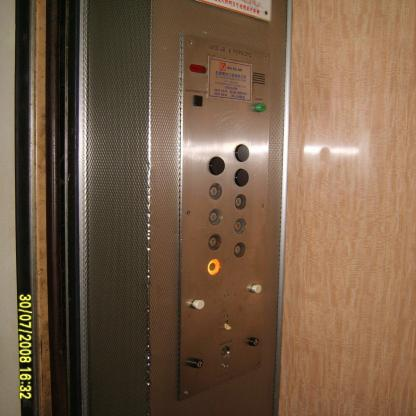1: (232, 240, 247, 258)
2: (208, 233, 222, 251)
3: (232, 216, 247, 234)
4: (208, 207, 223, 225)
5: (233, 192, 247, 210)
6: (207, 182, 223, 200)
G: (208, 258, 222, 276)
down: (246, 336, 260, 346)
empty: (208, 155, 226, 176), (232, 167, 250, 188), (233, 143, 250, 162), (191, 296, 206, 312), (248, 281, 263, 296), (192, 94, 204, 108)
switch: (222, 316, 232, 332)
text: (254, 102, 268, 114)
up: (189, 357, 206, 369)
